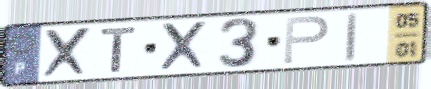3: (216, 16, 264, 71)
I: (343, 10, 360, 63)
P: (281, 14, 332, 66)
T: (98, 25, 141, 75)
X: (41, 25, 95, 81), (157, 19, 210, 73)
